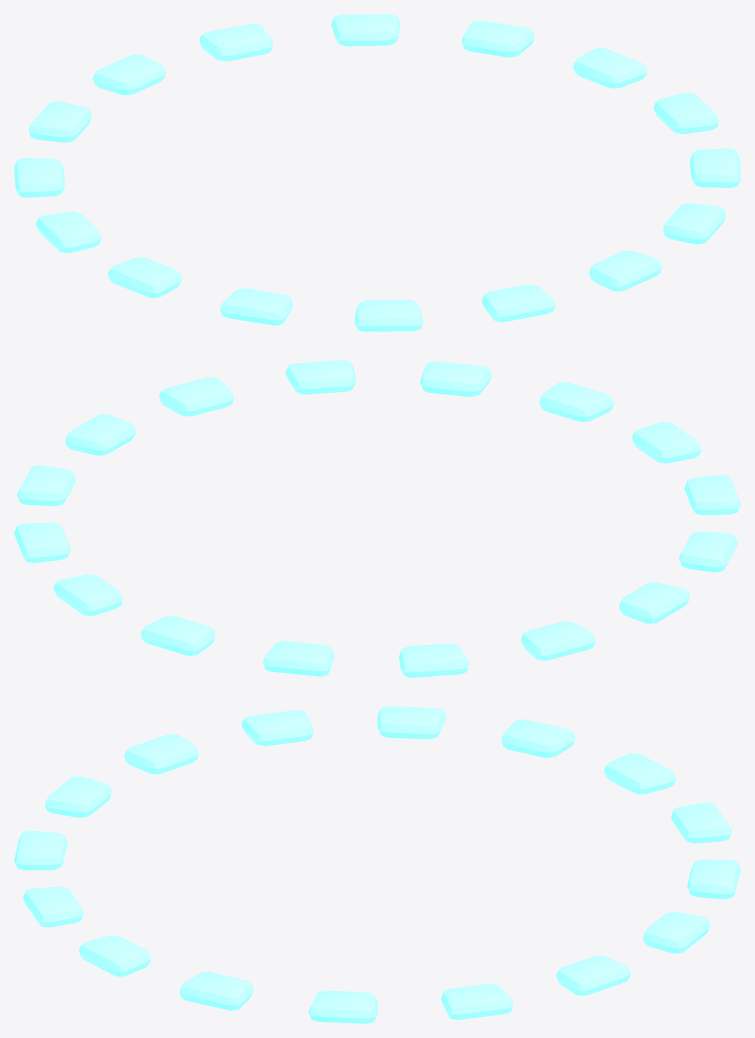
File: Tourelle_Emplacement.fbx
3 views of the same model, one above another, from view 1: azimuth 30°, elevation 25°; view 2: azimuth 150°, elevation 25°; view 3: azimuth 270°, elevation 25° (orthographic).
Visible parts, largest first — view 1: Circle; view 2: Circle; view 3: Circle.
Part boxes in pixels (box(x1,y1,x2,y2)): Circle: box(14, 14, 740, 331); Circle: box(14, 360, 740, 677); Circle: box(14, 706, 740, 1023).
Bounding box in the file's own units: 199 × 5.58 × 199.
